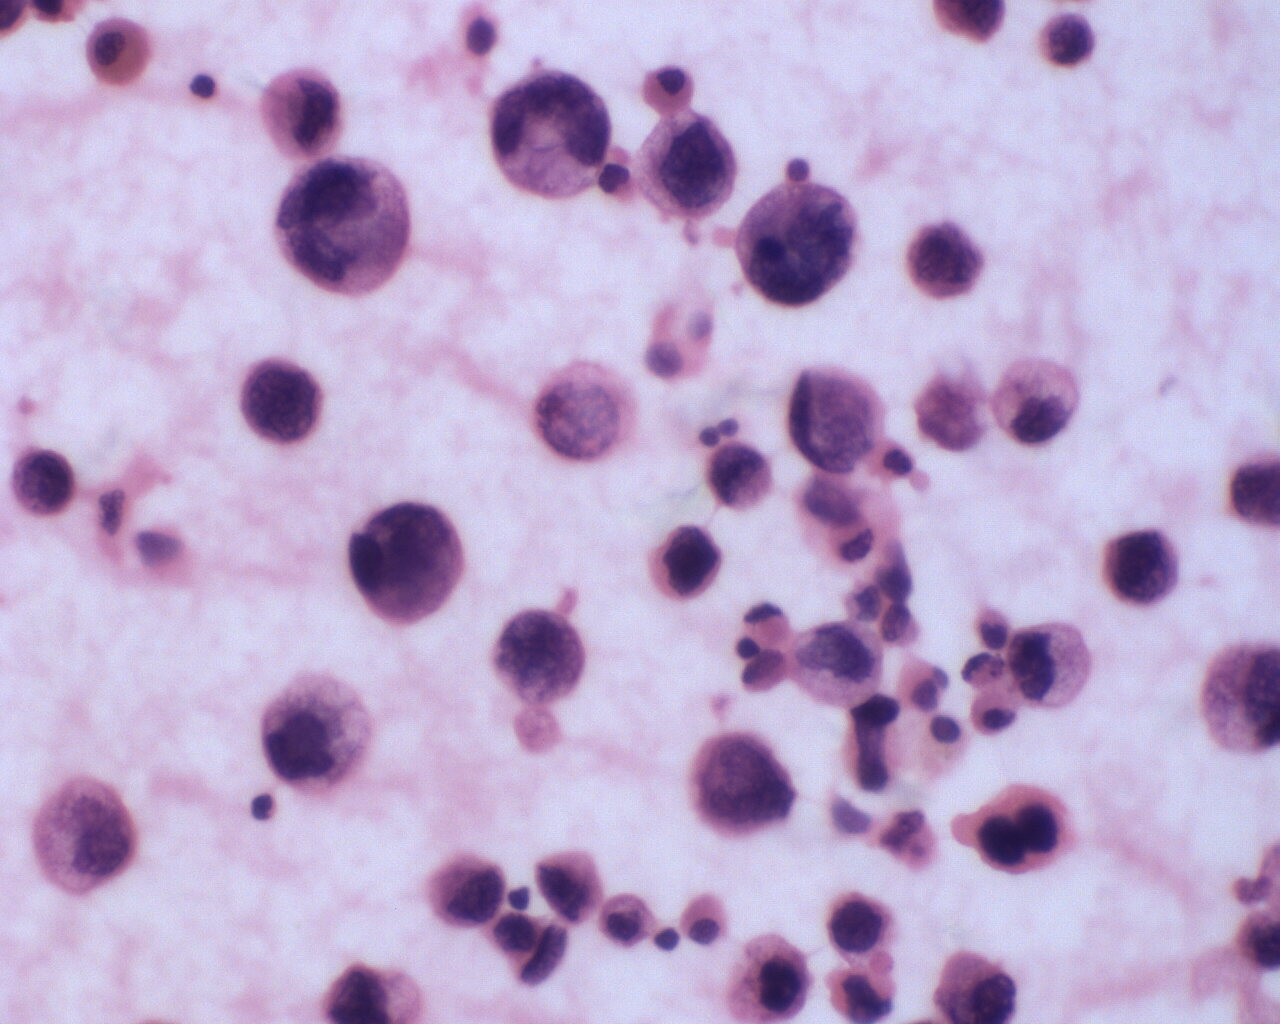ab: (270, 148, 421, 304), (480, 67, 611, 203), (252, 664, 375, 802), (737, 178, 863, 308), (688, 730, 802, 841), (634, 109, 740, 223), (252, 60, 346, 162), (237, 359, 338, 451), (1001, 612, 1094, 708), (419, 845, 513, 934), (641, 514, 730, 599), (905, 218, 990, 300), (820, 887, 909, 964), (1100, 528, 1182, 611), (7, 445, 82, 520), (1033, 9, 1099, 74)
meso: (83, 11, 166, 100), (637, 61, 702, 120), (682, 892, 731, 951)
